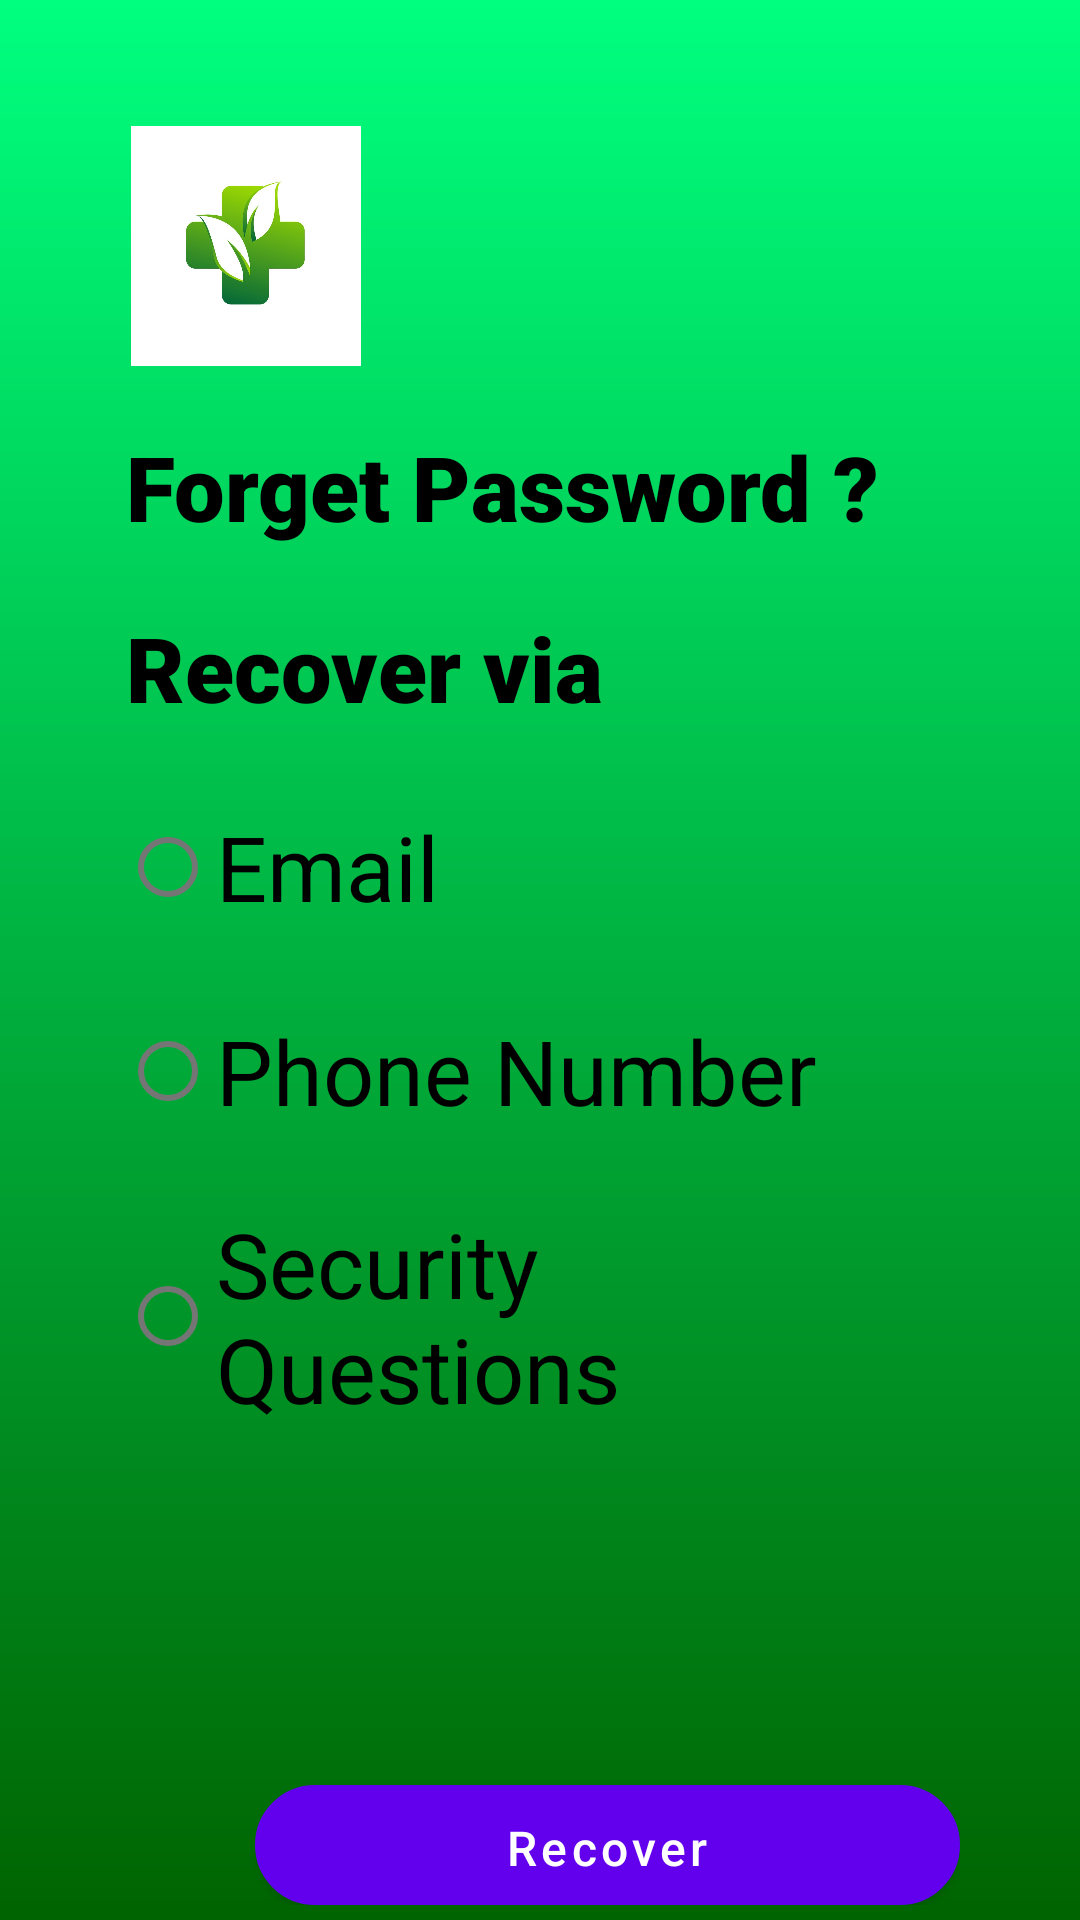

Named icons in this screenshot (1080 x 1920) and their bounding boxes, (x1, y1, x2, y2):
mediplus: (131, 126, 361, 366)
